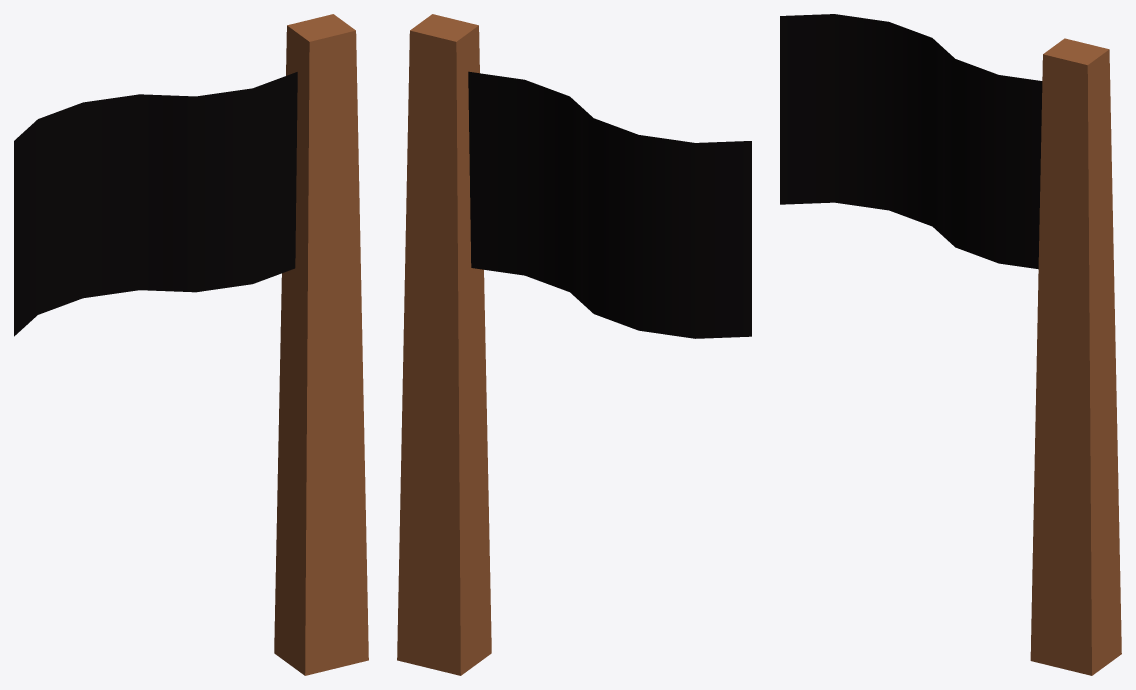
File: bandeira.glb
3 views of the same model, side by side, from view 1: azimuth 30°, elevation 25°; view 2: azimuth 150°, elevation 25°; view 3: azimuth 330°, elevation 25° (orthographic). The views are drawn at different scales.
Visible parts, largest first — view 1: flag; view 2: flag; view 3: flag.
Boxes of the visible parts, bbox=[...] form: flag: bbox=[14, 14, 368, 675]; flag: bbox=[397, 14, 751, 675]; flag: bbox=[780, 14, 1121, 675].
Bounding box in the file's own units: 0.8675 × 1.54 × 0.1665.
